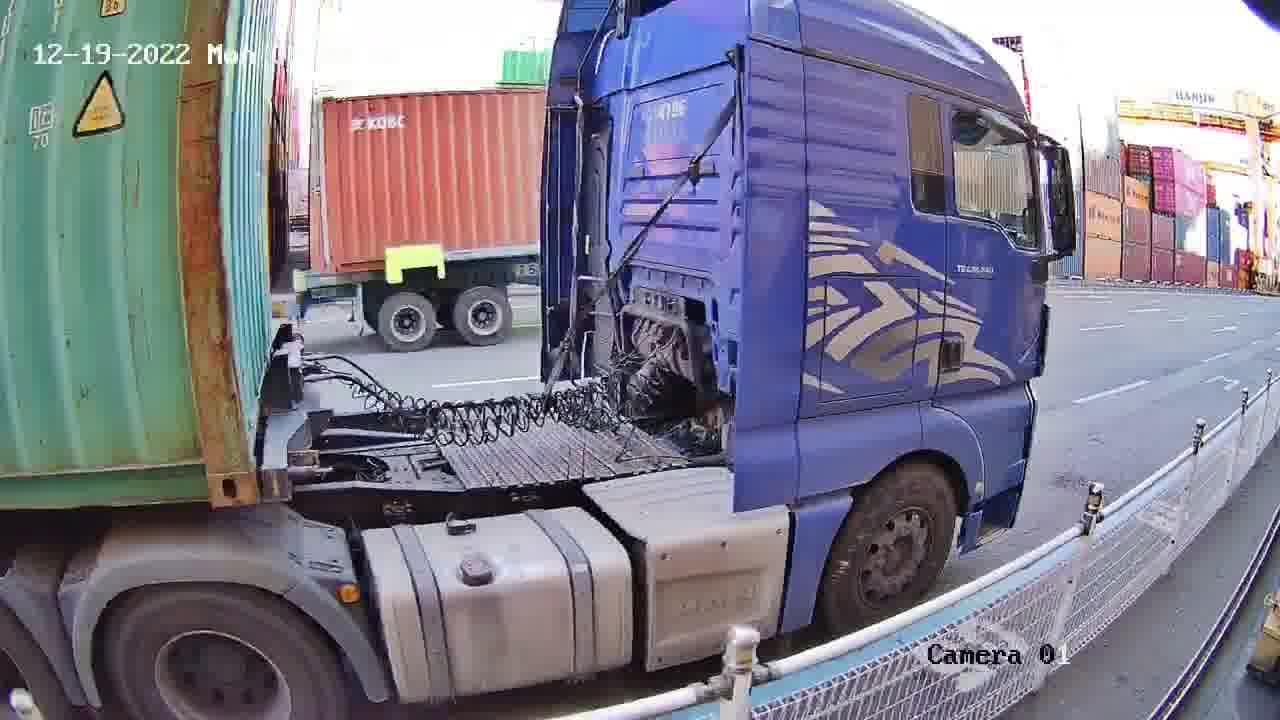Chassis: (257, 345, 310, 506)
Hole_R: (147, 429, 257, 505)
Tire: (100, 585, 348, 716)
